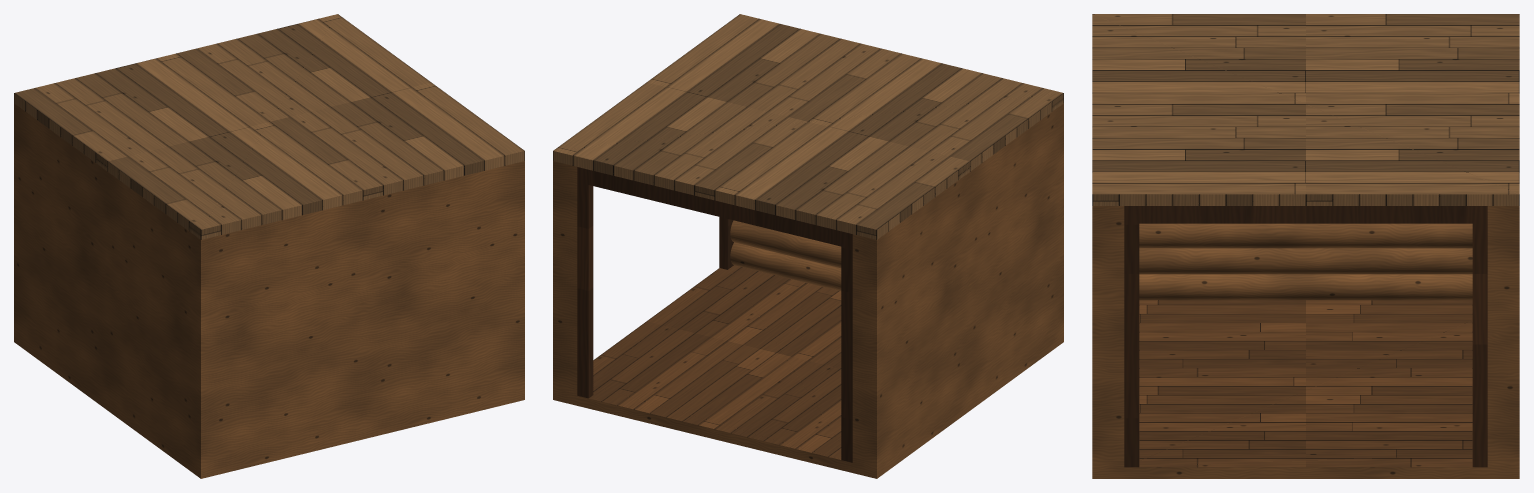
Rendered from Corridor_Cabin_Corner.glb.
3 renders of one model, left to right at view 1: azimuth 30°, elevation 25°; view 2: azimuth 150°, elevation 25°; view 3: azimuth 270°, elevation 25°, orthographic. The views are drawn at different scales.
Parts seen in each view (by area): view 1: Corridor_Cabin_Corner, Corridor_Cabin_Corner_Ceiling; view 2: Corridor_Cabin_Corner, Corridor_Cabin_Corner_Ceiling; view 3: Corridor_Cabin_Corner, Corridor_Cabin_Corner_Ceiling.
Part boxes in pixels (box(x1,y1,x2,y2)): Corridor_Cabin_Corner: box(14, 103, 524, 478); Corridor_Cabin_Corner_Ceiling: box(14, 14, 524, 239); Corridor_Cabin_Corner: box(553, 103, 1063, 478); Corridor_Cabin_Corner_Ceiling: box(553, 14, 1063, 248); Corridor_Cabin_Corner: box(1092, 206, 1519, 478); Corridor_Cabin_Corner_Ceiling: box(1092, 14, 1519, 223).
Size of the model in its own units: 4 by 2.94 by 4.
Materials: 7 (5 with a texture image).
